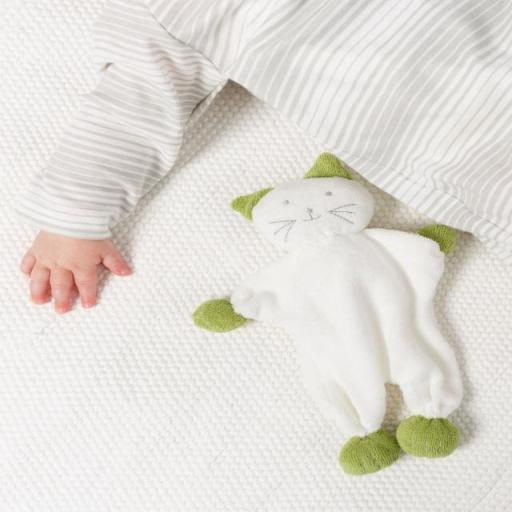baby: (18, 0, 509, 311)
